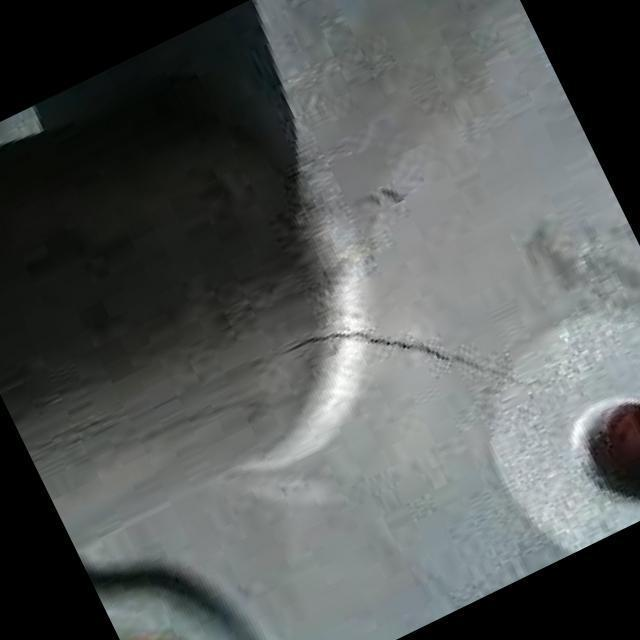defect: (276, 326, 551, 387)
